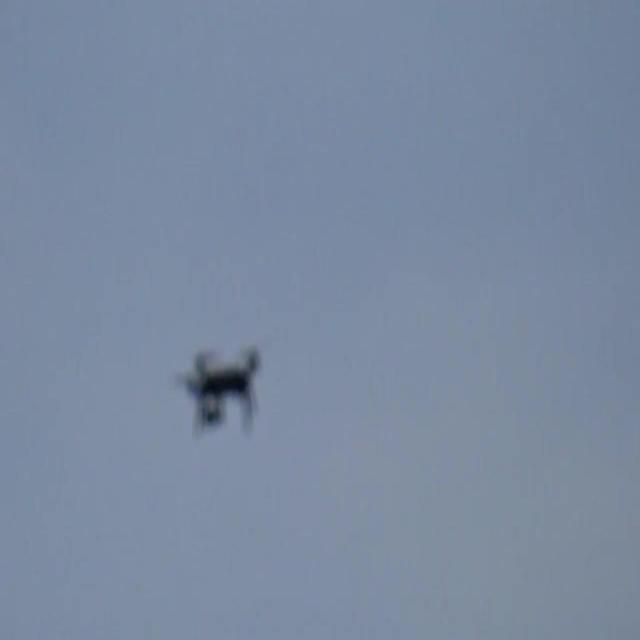UAV: (177, 346, 263, 436)
